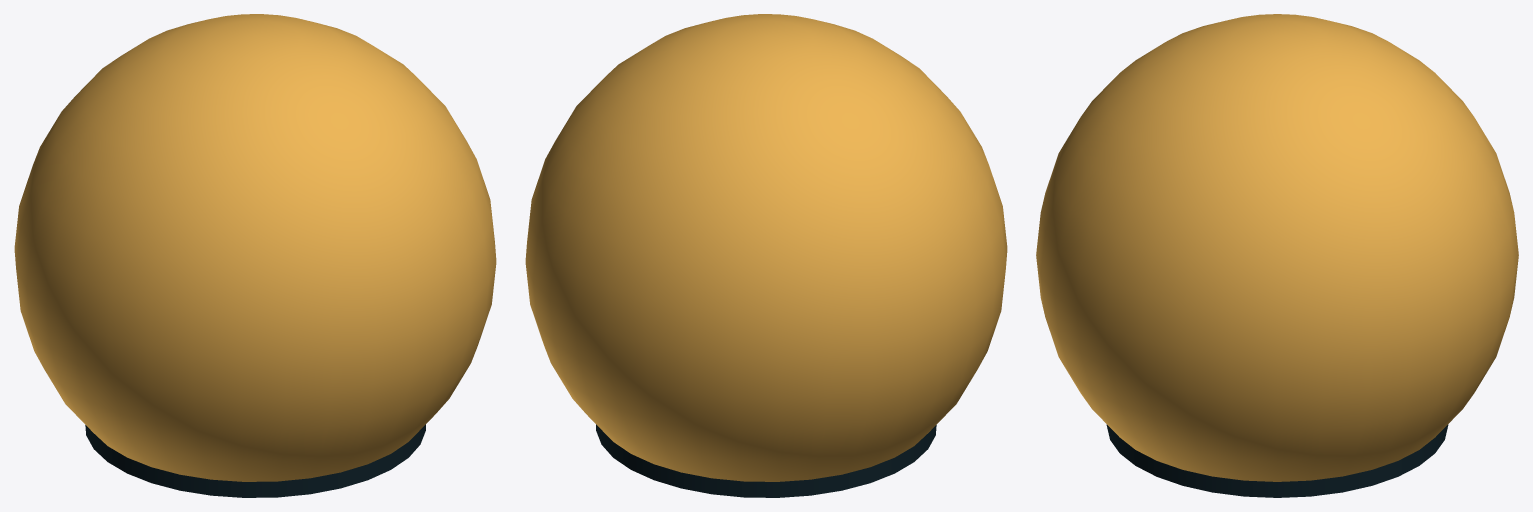
File: bubble.FBX
3 views of the same model, side by side, from view 1: azimuth 30°, elevation 25°; view 2: azimuth 150°, elevation 25°; view 3: azimuth 270°, elevation 25° (orthographic).
Parts seen in each view (by area): view 1: objlowman_; view 2: objlowman_; view 3: objlowman_.
Boxes of the visible parts, box(x1,y1,x2,y2) form: objlowman_: box(14, 14, 496, 497); objlowman_: box(525, 14, 1007, 497); objlowman_: box(1036, 14, 1518, 497).
Bounding box in the file's own units: 117 × 104 × 117.
